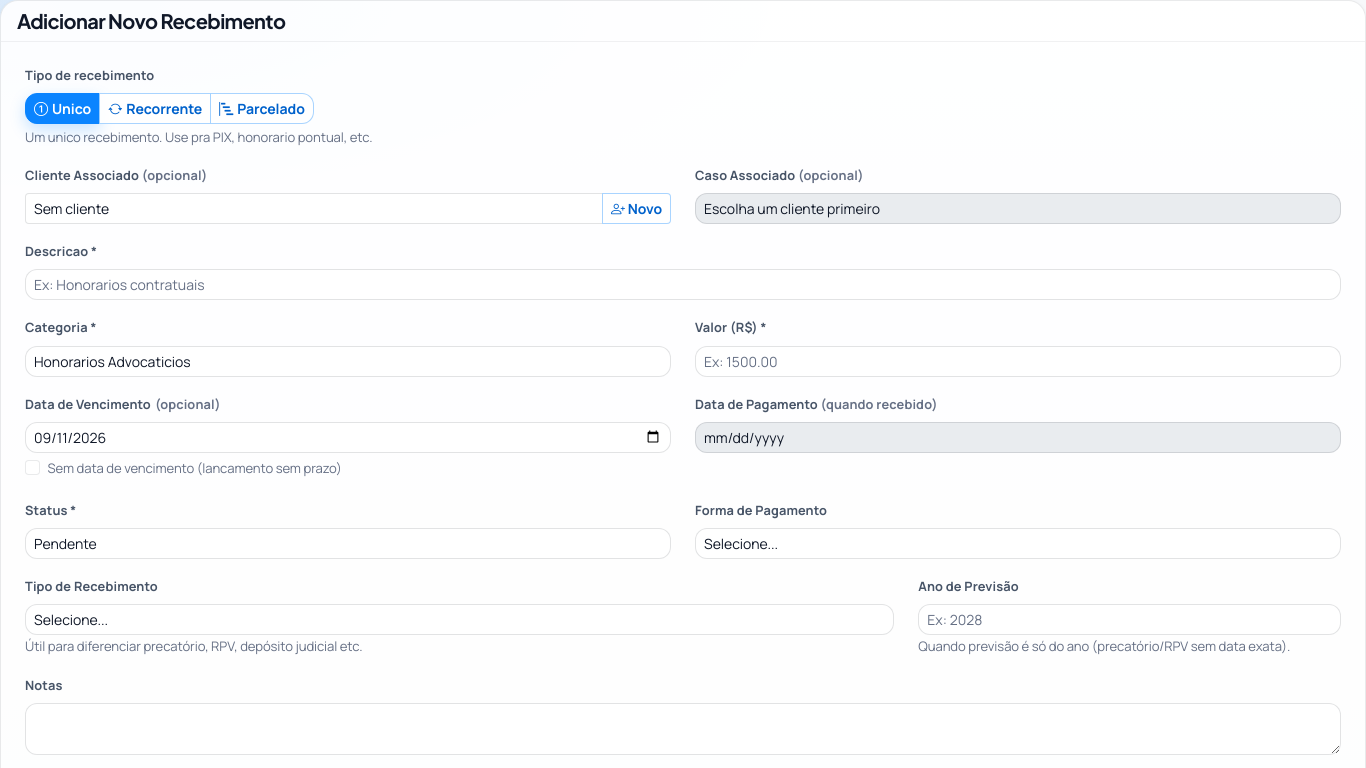
Test: RecebimentoForm robusto (Fase 2) › mudar status pra Pago auto-preenche data_pagamento
The width and height of the screenshot is (1366, 768).
Expected: the date field labelled "Data de Pagamento (quando recebido)" is disabled, [695,422,1341,453]
Expected: the date field labelled "Data de Pagamento (quando recebido)" is empty, [695,422,1341,453]
Select "Pago" in the dropdown labelled "Status *" at {"x": 348, "y": 543}, box [25,528,671,559]
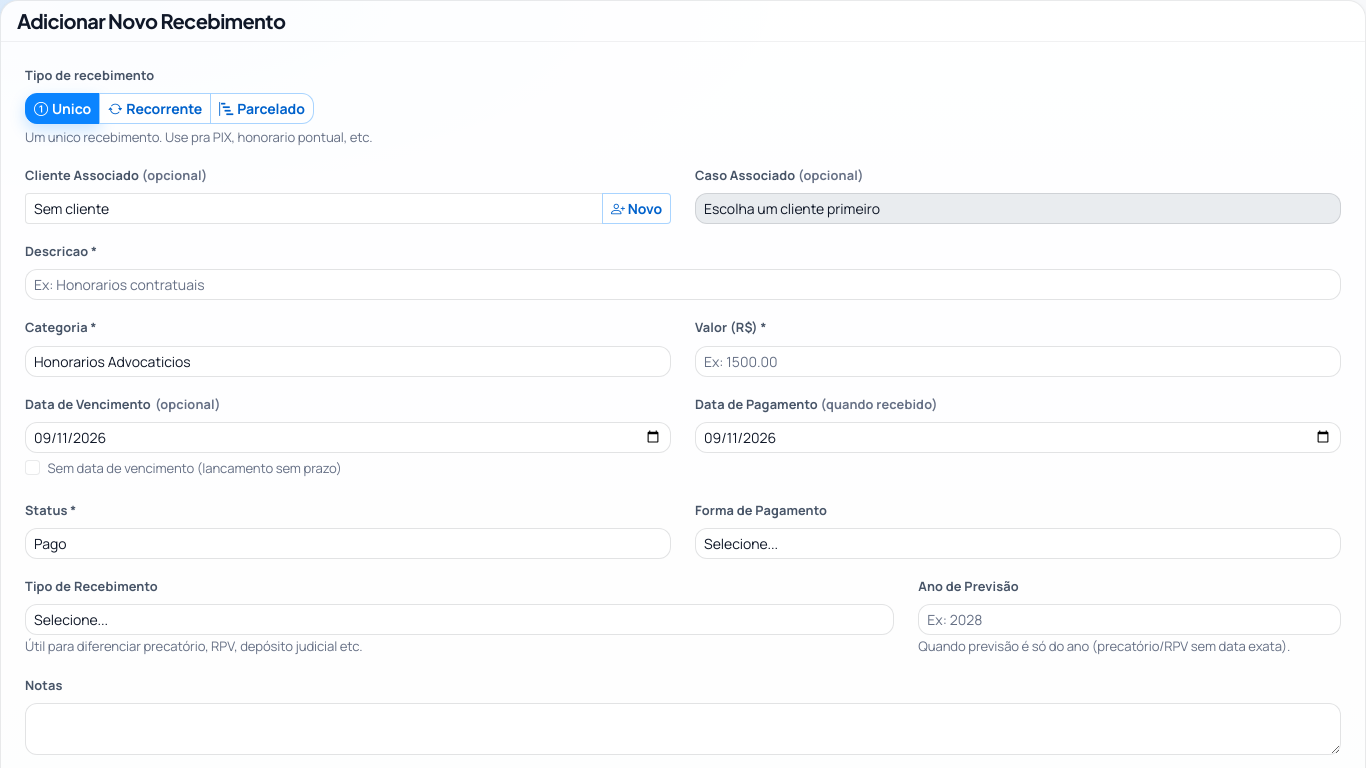
Result: the date field labelled "Data de Pagamento (quando recebido)" is enabled at [695,422,1341,453]
